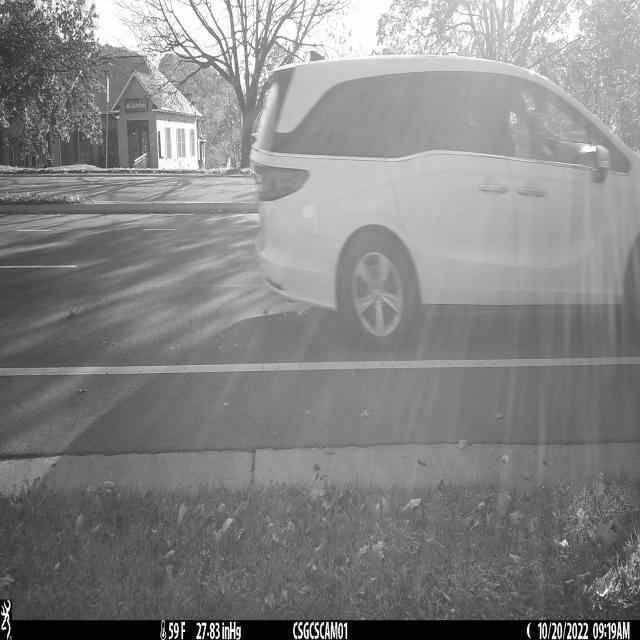Van: (251, 56, 640, 358)
